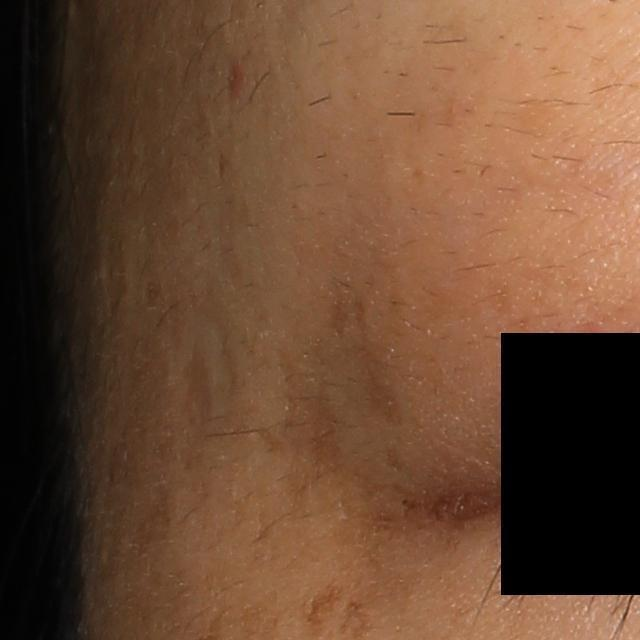melasma: (355, 285, 407, 435)
